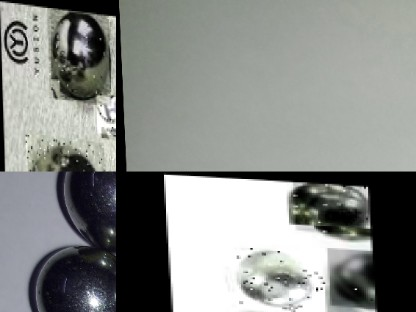ironball: (20, 244, 118, 312), (230, 243, 324, 310), (47, 4, 110, 101), (58, 168, 116, 253), (293, 179, 370, 230), (24, 130, 104, 171), (325, 243, 374, 303), (95, 90, 116, 131), (279, 308, 375, 311)
